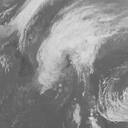cyclone: (35, 31, 92, 97), (97, 79, 127, 123)
